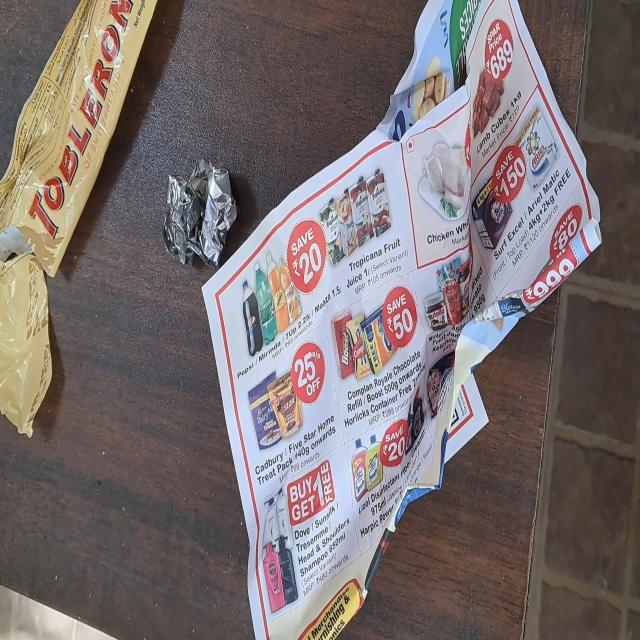Anorganik: (0, 0, 162, 438), (165, 159, 240, 263)
Organik: (289, 0, 598, 481)
